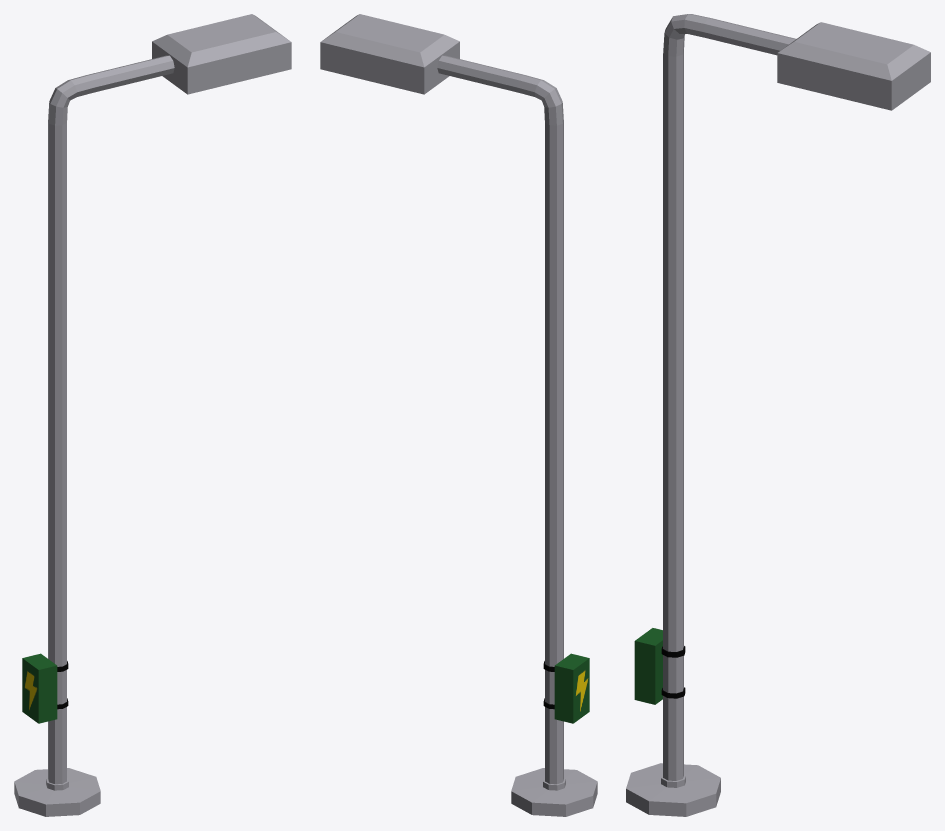
The model's file is Lampostwo.fbx.
The picture shows the model from 3 angles, left to right: view 1: azimuth 30°, elevation 25°; view 2: azimuth 150°, elevation 25°; view 3: azimuth 330°, elevation 25°; orthographic projection. The views are drawn at different scales.
Visible parts, largest first — view 1: Cylinder.002; view 2: Cylinder.002; view 3: Cylinder.002.
Boxes of the visible parts, x1=… form: Cylinder.002: x1=14, y1=14, x2=291, y2=816; Cylinder.002: x1=320, y1=14, x2=597, y2=816; Cylinder.002: x1=626, y1=14, x2=930, y2=816.
Bounding box in the file's own units: 251 × 682 × 76.29.
1 material, 1 textured.
